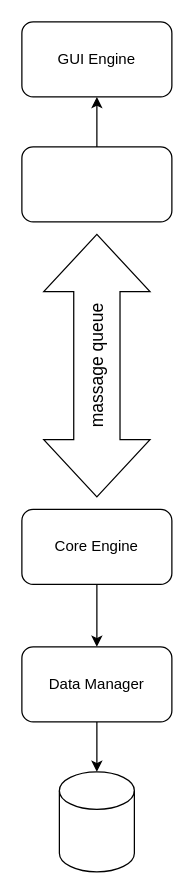
Some shapes in this 194 by 894 pixel diagram are drawn without their labels. The shapes that lost their labels are listed below. From the top down, each one's centre as x and y in pixels, then its label:
At pixel 96 184: "Model Manager".
At pixel 96 821: "Data".
